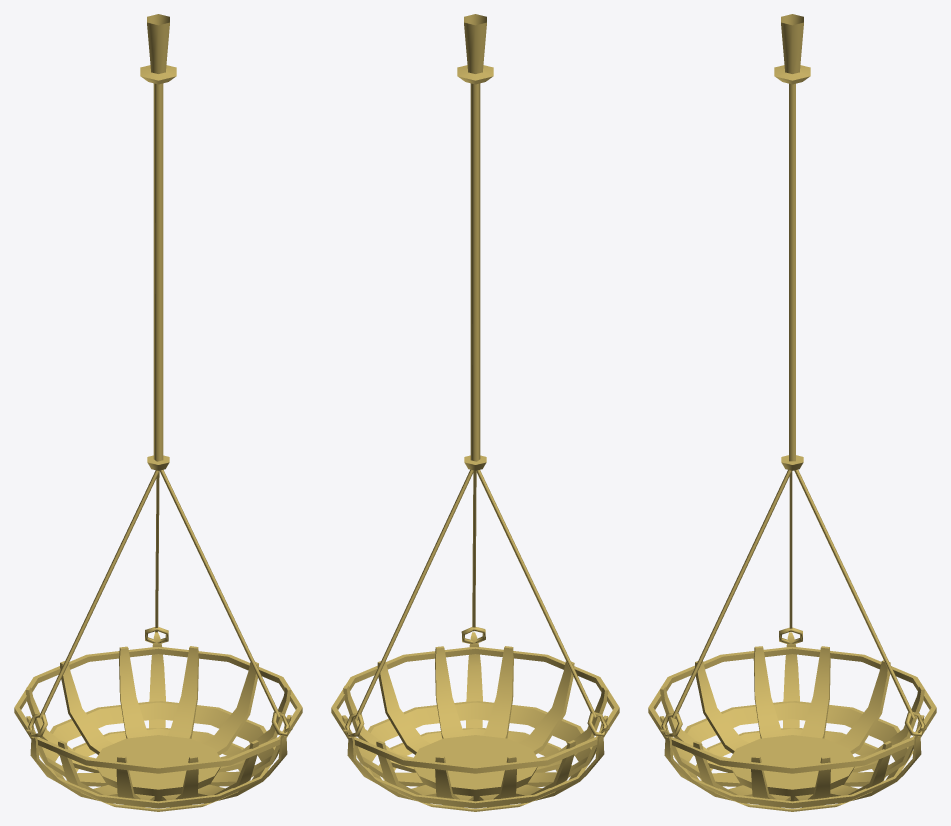
Rendered from Brazier.fbx.
3 renders of one model, left to right at view 1: azimuth 30°, elevation 25°; view 2: azimuth 150°, elevation 25°; view 3: azimuth 270°, elevation 25°, orthographic.
Parts seen in each view (by area): view 1: Frame, Tether, Root; view 2: Frame, Tether, Root; view 3: Frame, Tether, Root.
Boxes of the visible parts, box(x1,y1,x2,y2) form: Frame: box(14, 632, 302, 811); Tether: box(28, 83, 289, 738); Root: box(140, 14, 176, 84); Frame: box(331, 632, 619, 811); Tether: box(345, 83, 607, 737); Root: box(457, 14, 493, 84); Frame: box(648, 632, 936, 811); Tether: box(661, 83, 925, 737); Root: box(774, 14, 810, 84).
Bounding box in the file's own units: 48.85 × 140 × 47.34.
